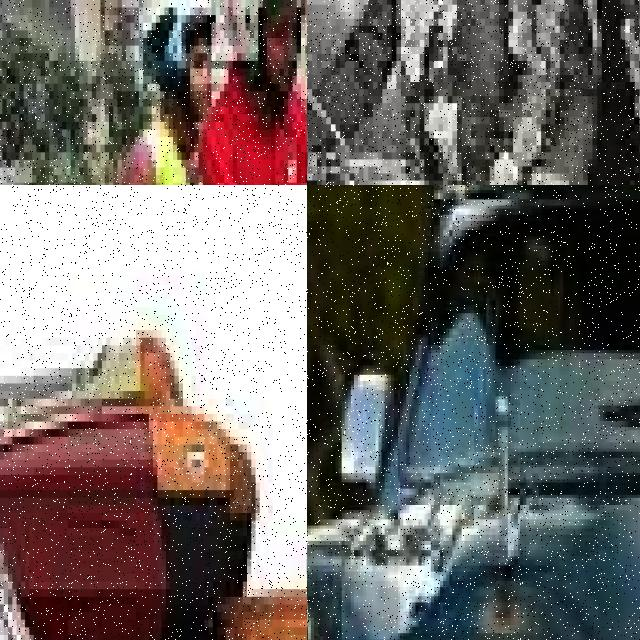bike: (0, 185, 307, 640), (307, 124, 615, 185)
car: (307, 185, 640, 640)
